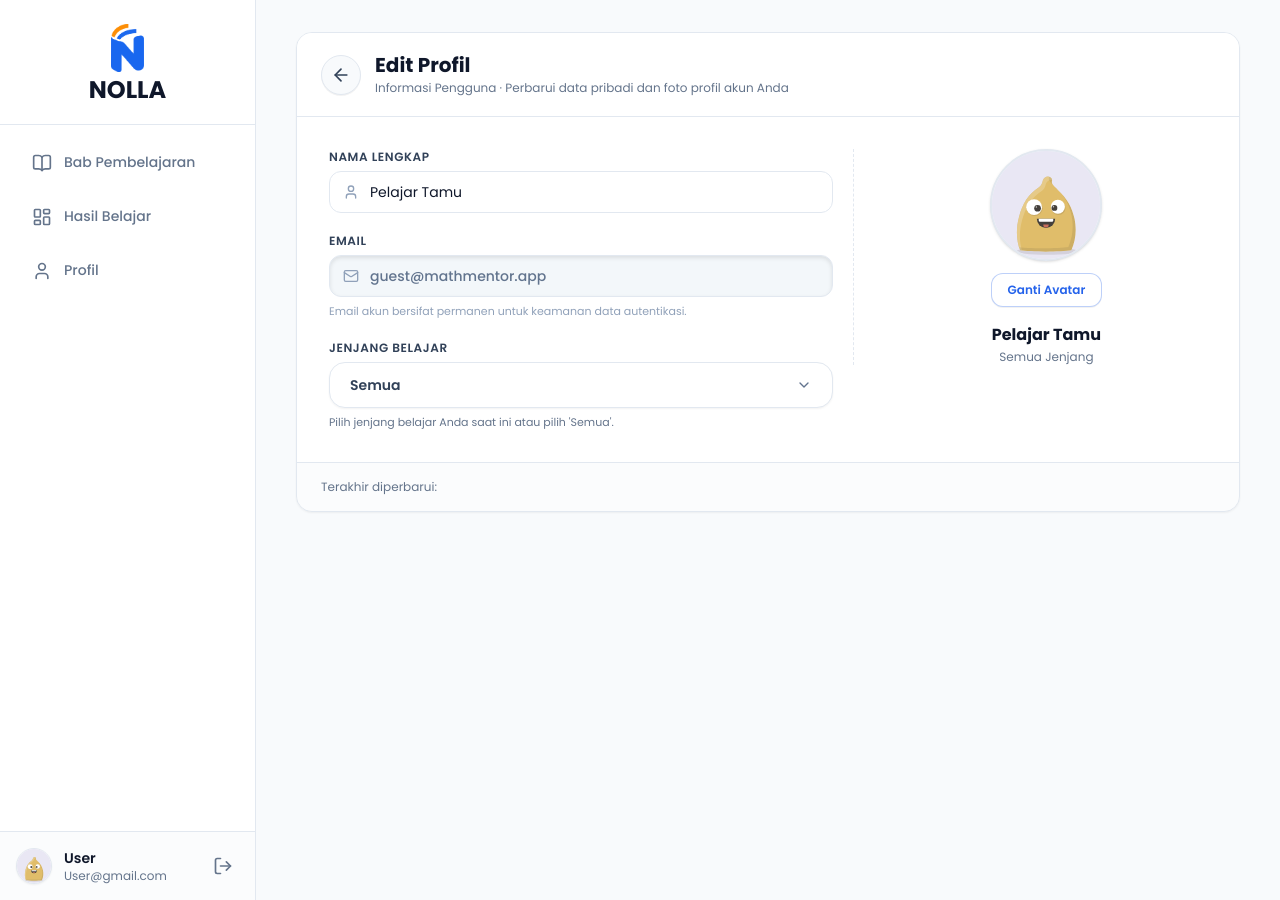
Test: EditProfile Component › menyimpan perubahan profil lewat API dan memperbarui localStorage
The width and height of the screenshot is (1280, 900).
Replace the text in the field with placeholder "Contoh: MD Rafi Islam" with "Budi Santoso" at point(581, 192), box [329,171,833,213]
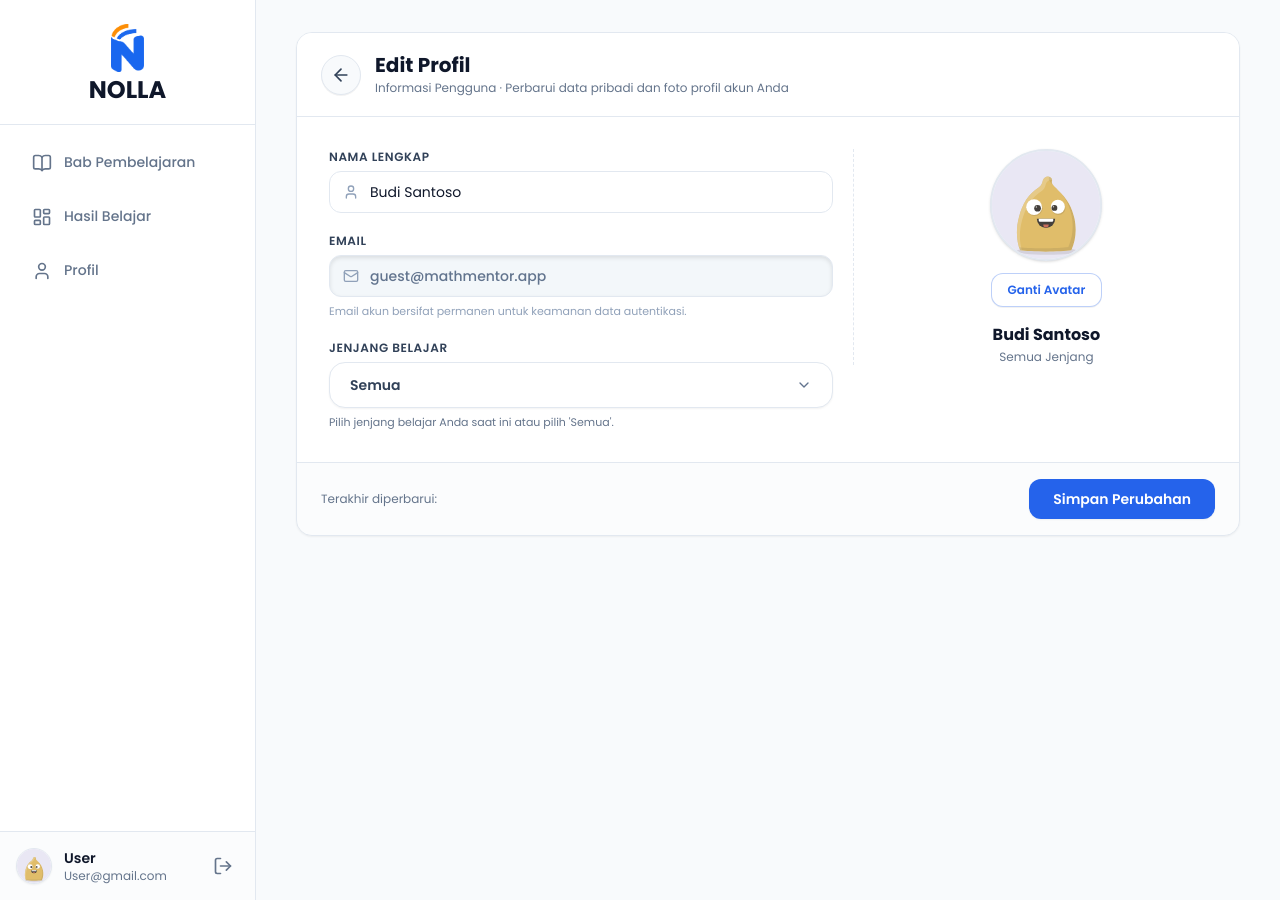
Click the button named "Jenjang Belajar" at point(375, 384), box [329,362,833,408]
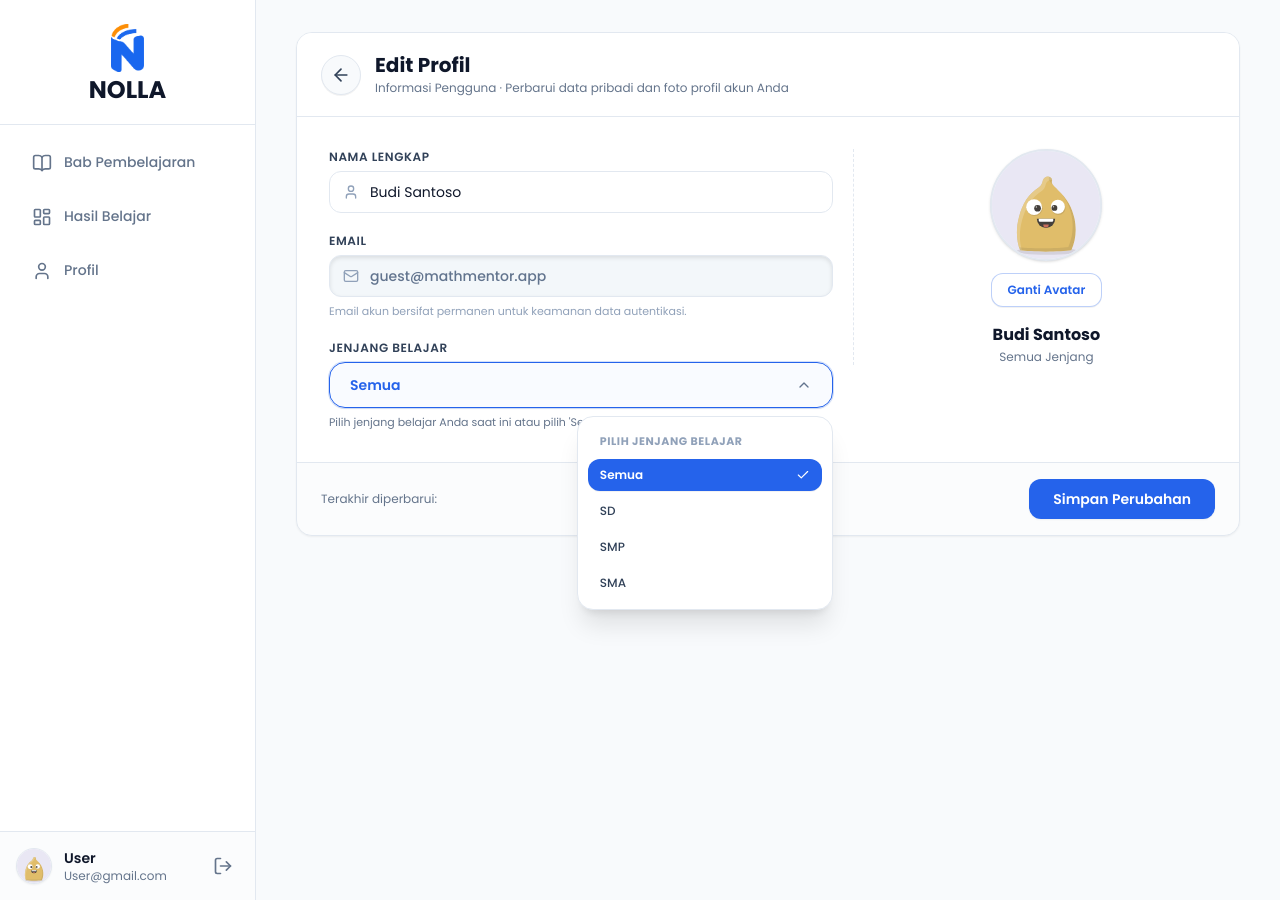
Click the button "SMP" at point(705, 547), box [588,531,822,563]
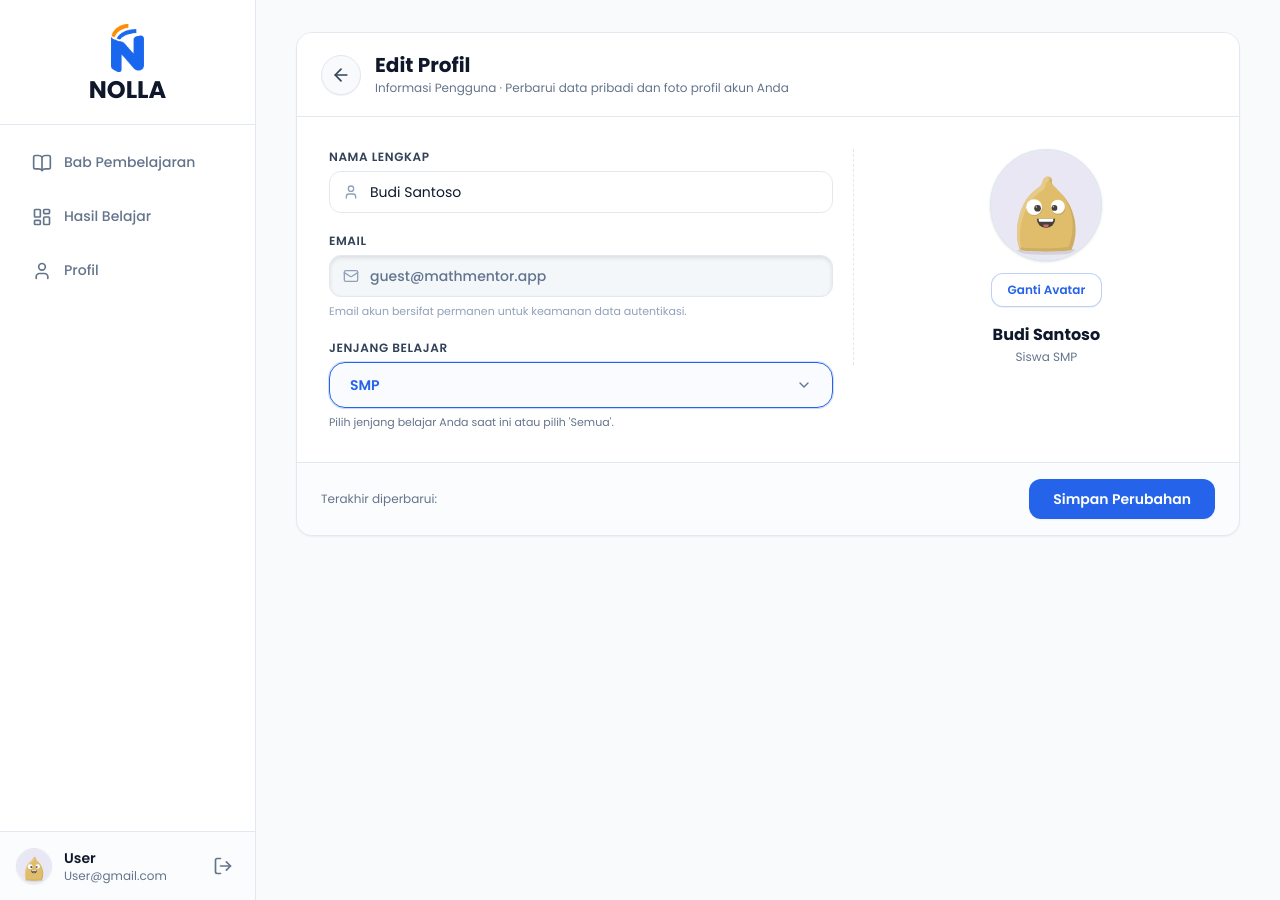
Click the button "Simpan Perubahan" at point(1122, 499), box [1029,479,1215,519]
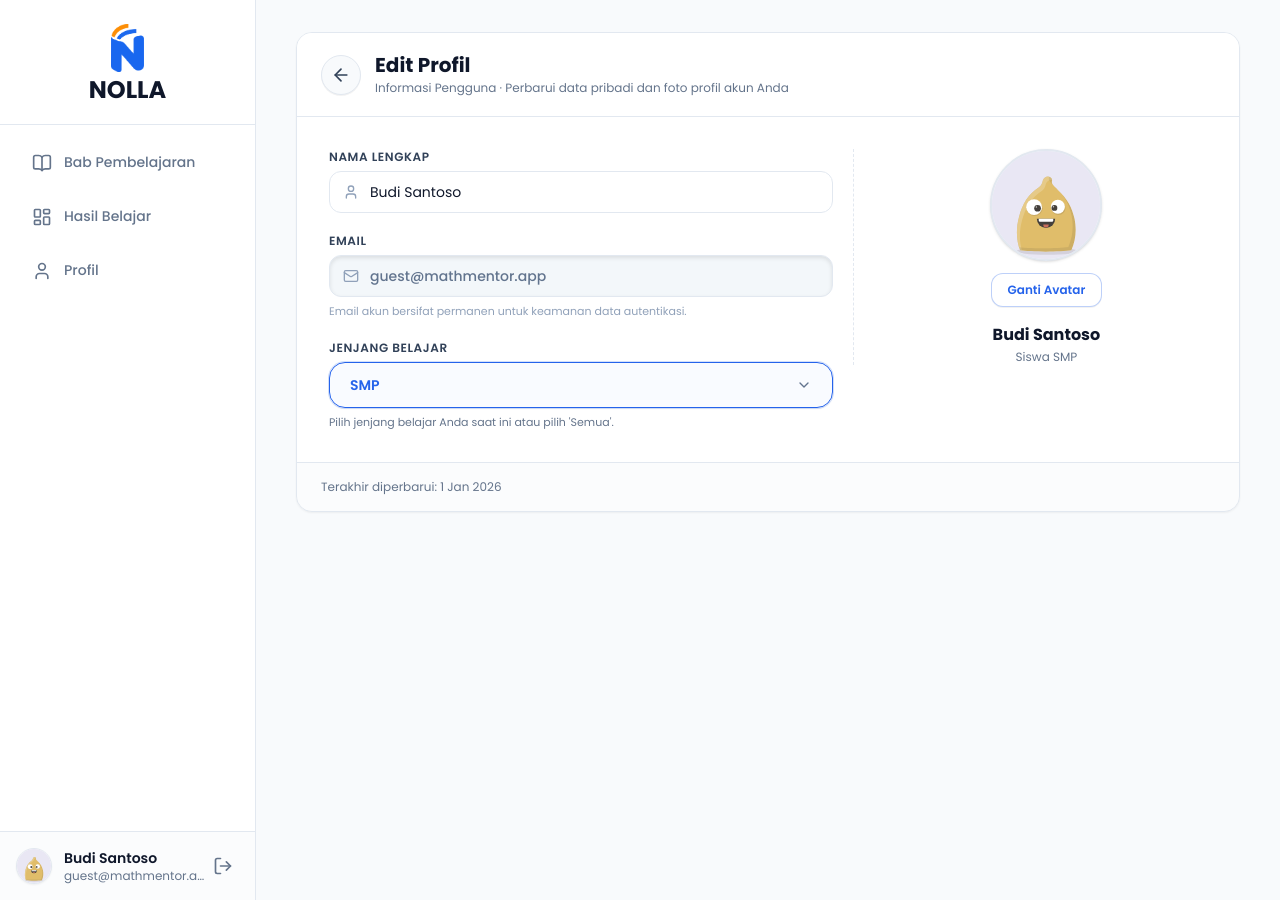
Expected: the text "SMP" is shown, [350,374,380,394]
Expected: the text "Budi Santoso" is shown, [64,848,157,868]
